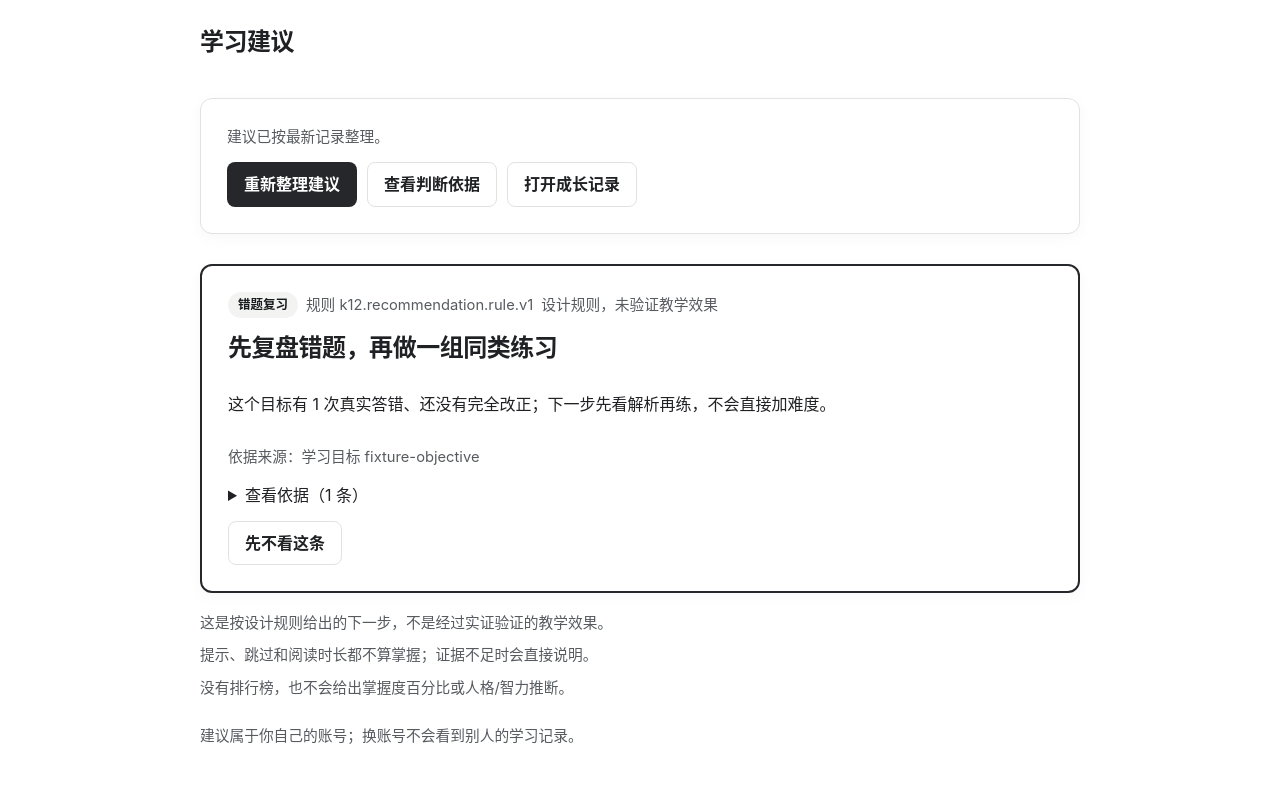
Scenario: next step page (T19 L2/L3/L9/L11) › surfaces a real conflict when the feedback revision is stale
This screenshot has width=1280, height=798.
Click the button with test id "next-ignore". click: click(285, 543)
box: [228, 521, 342, 565]
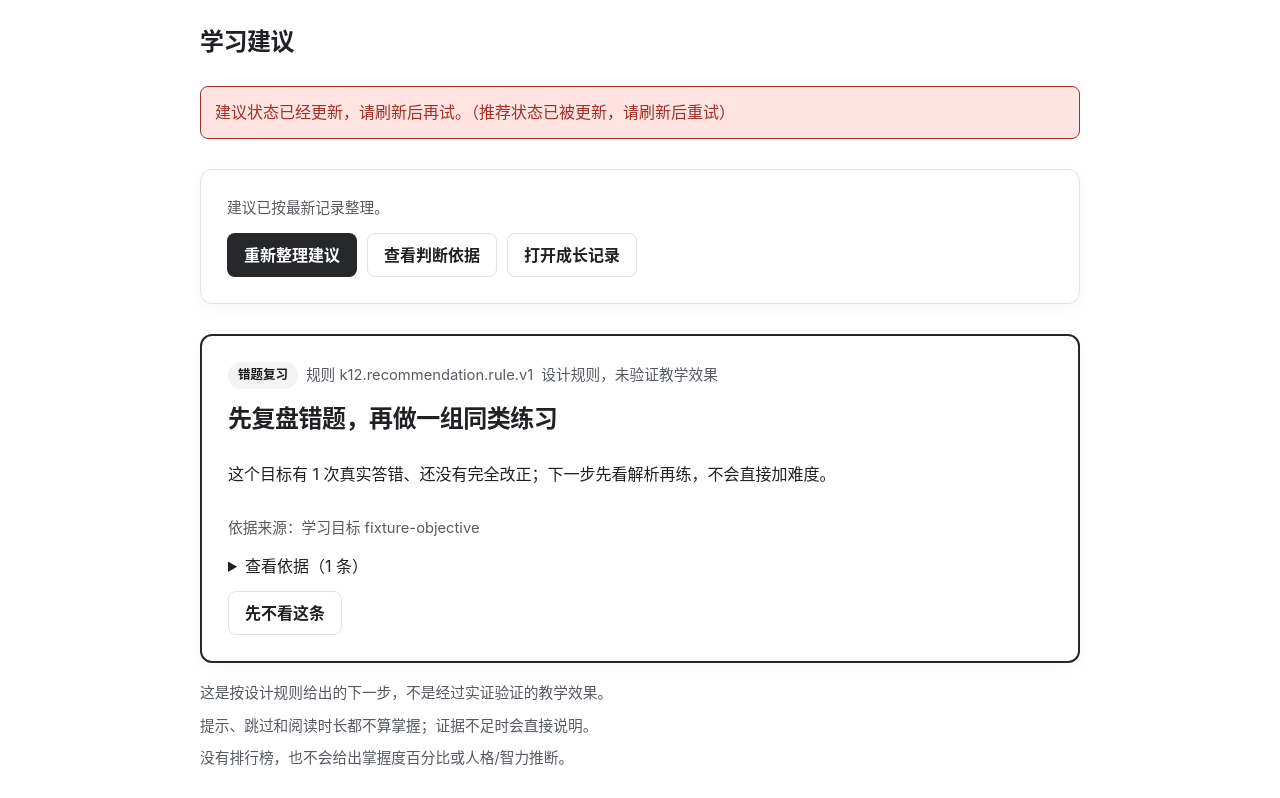
Expected: the message with test id "next-error" shows "建议状态已经更新", [215, 102, 735, 122]
Expected: the message with test id "next-error" shows "推荐状态已被更新", [215, 102, 735, 122]
